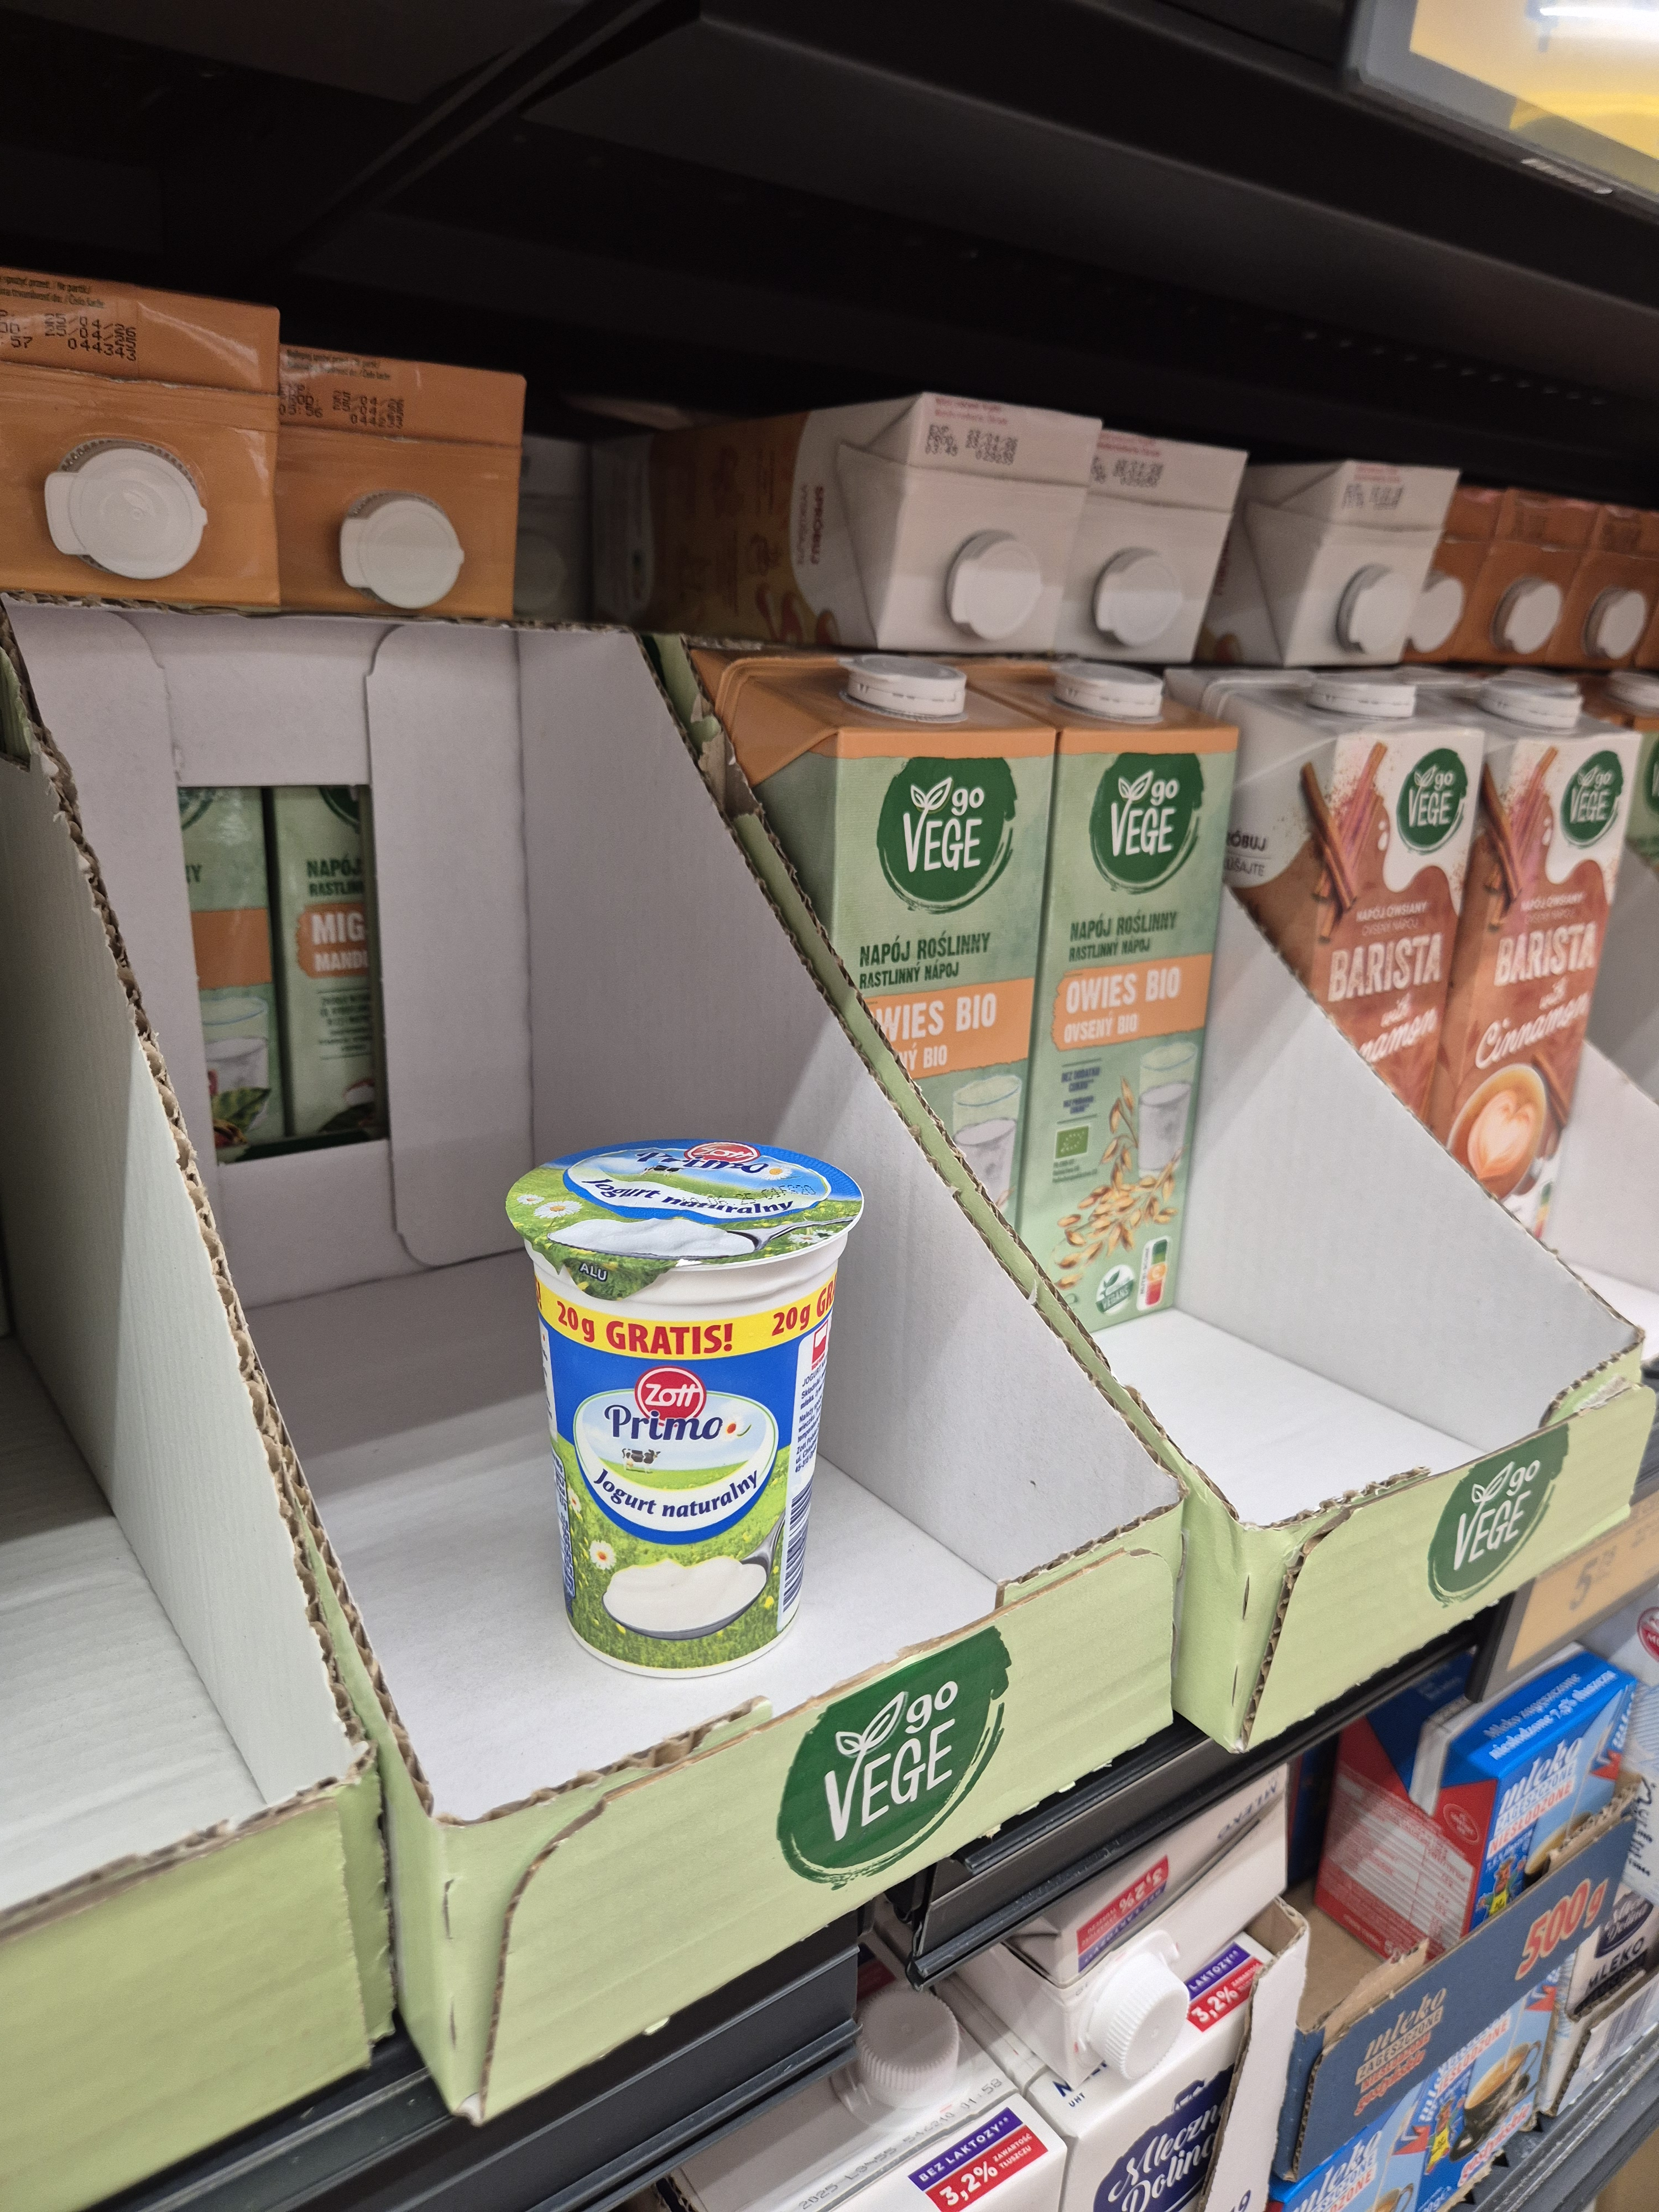Yogurt: (484, 1123, 873, 1660)
